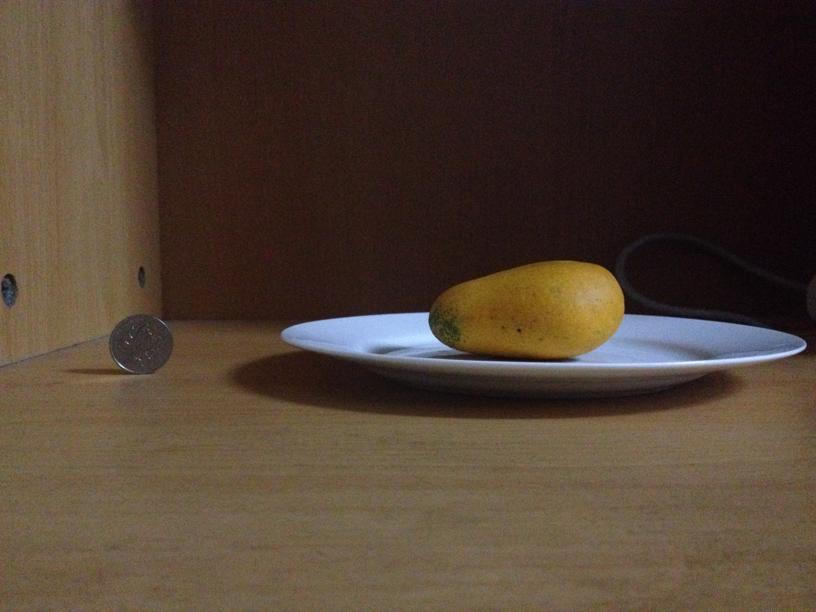coin: (111, 314, 173, 374)
mango: (424, 256, 622, 355)
